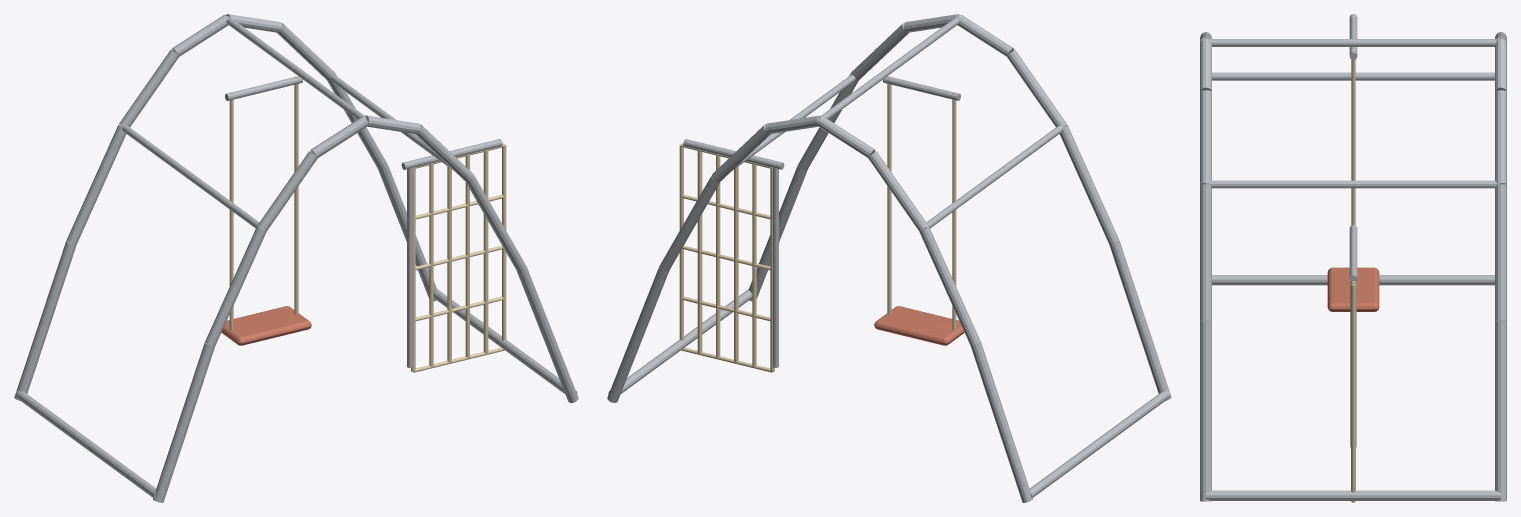
File: kids_swing_b.glb
3 renders of one model, left to right at view 1: azimuth 30°, elevation 25°; view 2: azimuth 150°, elevation 25°; view 3: azimuth 270°, elevation 25°, orthographic. The views are drawn at different scales.
Visible parts, largest first — view 1: Tint, Curved frame.008, Curved frame, Frame footing, Curved frame.015, Curved frame.009, Curved frame.001, Frame footing.001, Frame pin, Frame pin.001, Curved frame.007, Net stay (+20 smaller); view 2: Tint, Curved frame, Curved frame.008, Frame footing, Curved frame.007, Curved frame.001, Curved frame.009, Frame footing.001, Frame pin, Frame pin.001, Curved frame.015, Net stay (+20 smaller); view 3: Frame footing.001, Frame pin.002, Frame footing, Frame pin, Frame pin.001, Curved frame.007, Curved frame.015, Tint, Curved frame.006, Curved frame.014, Curved frame.005, Curved frame.013 (+5 smaller).
Part boxes in pixels (<box>): Tint: <box>221,306,311,345</box>; Curved frame.008: <box>153,342,214,502</box>; Curved frame: <box>14,241,76,400</box>; Frame footing: <box>15,391,156,497</box>; Curved frame.015: <box>517,266,578,402</box>; Curved frame.009: <box>205,226,266,346</box>; Curved frame.001: <box>66,125,126,244</box>; Frame footing.001: <box>433,289,577,393</box>; Frame pin: <box>121,125,260,228</box>; Frame pin.001: <box>226,16,366,119</box>; Curved frame.007: <box>378,165,437,301</box>; Net stay: <box>407,167,412,367</box>; Tint: <box>874,306,964,345</box>; Curved frame: <box>971,342,1032,502</box>; Curved frame.008: <box>1109,241,1171,400</box>; Frame footing: <box>1029,391,1170,497</box>; Curved frame.007: <box>607,266,668,402</box>; Curved frame.001: <box>919,226,980,346</box>; Curved frame.009: <box>1059,125,1119,244</box>; Frame footing.001: <box>608,289,752,393</box>; Frame pin: <box>925,125,1064,228</box>; Frame pin.001: <box>819,16,959,119</box>; Curved frame.015: <box>748,165,807,301</box>; Net stay: <box>773,167,778,367</box>; Frame footing.001: <box>1206,490,1500,500</box>; Frame pin.002: <box>1206,180,1500,188</box>; Frame footing: <box>1212,275,1494,285</box>; Frame pin: <box>1212,72,1494,80</box>; Frame pin.001: <box>1208,39,1498,46</box>; Curved frame.007: <box>1495,321,1506,501</box>; Curved frame.015: <box>1200,321,1211,501</box>; Tint: <box>1327,267,1379,311</box>; Curved frame.006: <box>1495,184,1506,320</box>; Curved frame.014: <box>1200,184,1211,320</box>; Curved frame.005: <box>1495,90,1506,184</box>; Curved frame.013: <box>1200,90,1211,184</box>.
Bounding box in the file's own units: 2.62 × 1.98 × 1.54.
